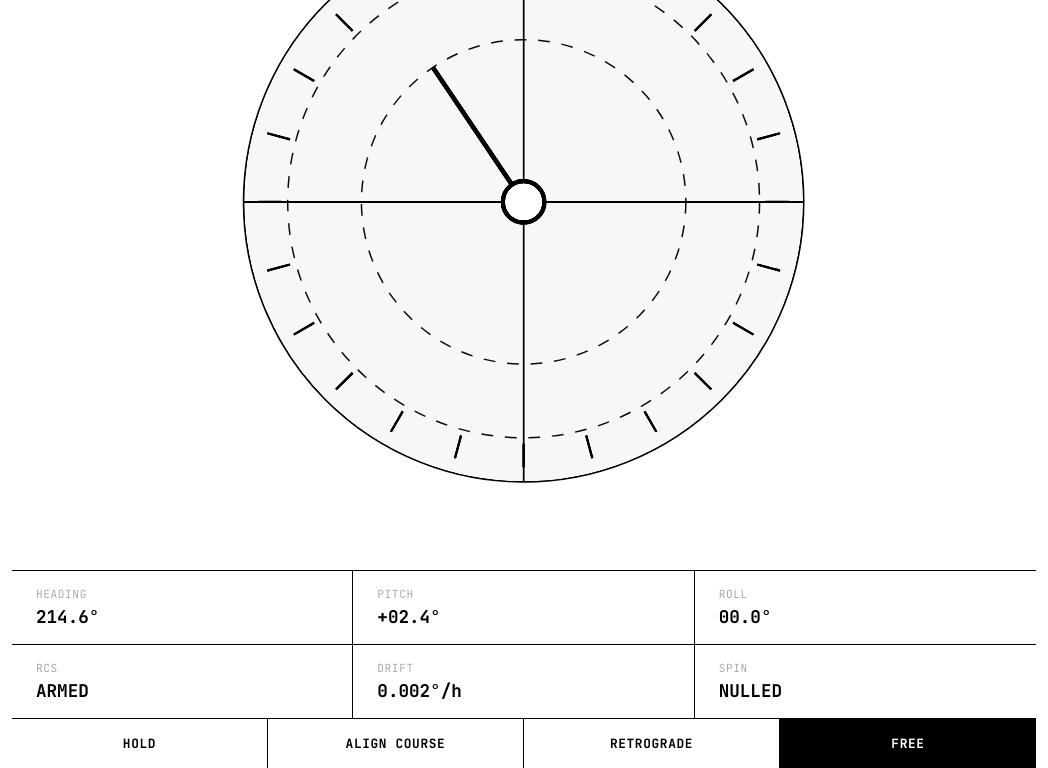
NavigationAutopilotLeft › switches the active attitude command and updates the readouts
(page scrolled)
Click the button "RETROGRADE": (652, 744) [524,719,780,767]
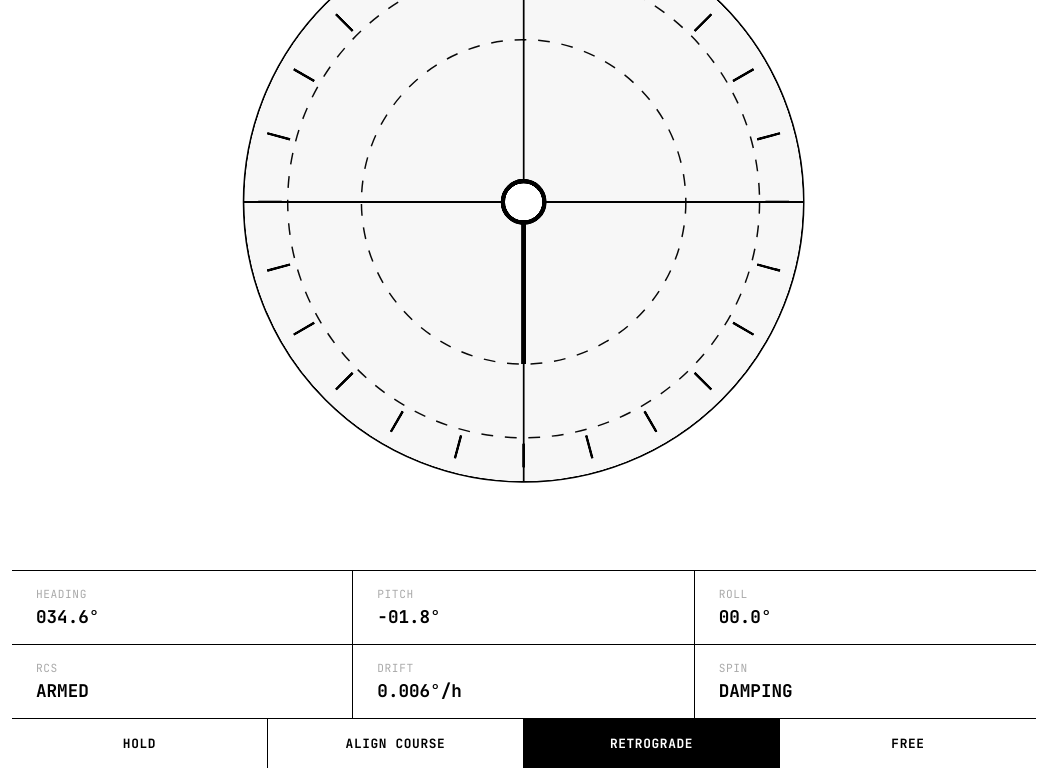
Result: the text "034.6°" is shown at [36,605,99,628]
